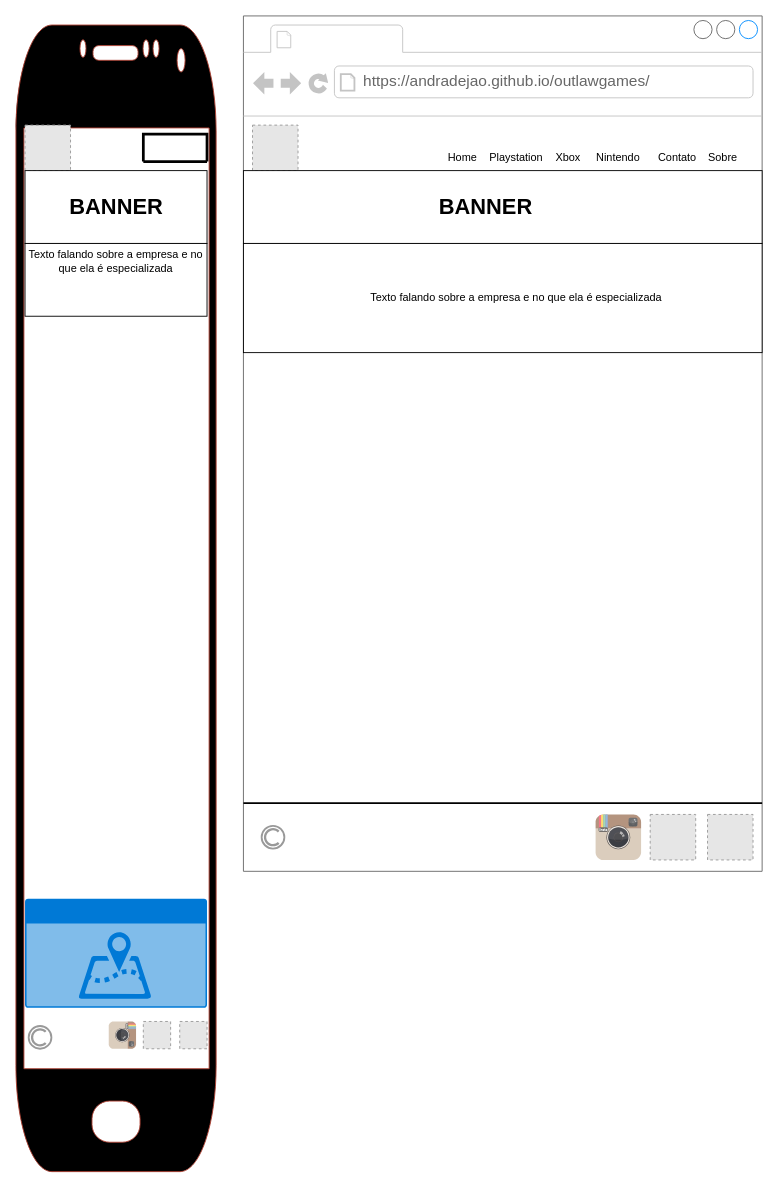
This 779x1188 diagram has some shape labels left out. Grey dashed boxes stand in for pictures. The centre of each missing label's shape, as x and y in pixels:
Map: the point at 116,952
Menu: the point at 175,147
Outlaw Games: the point at 370,38
